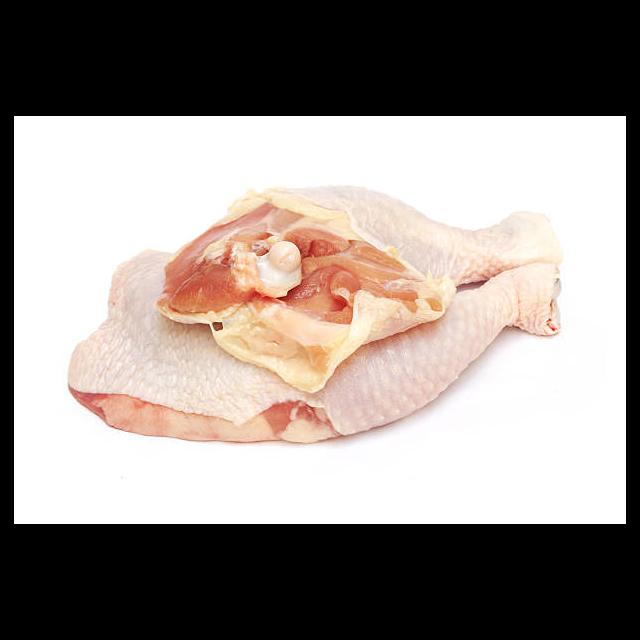chicken: (66, 248, 561, 445), (155, 183, 562, 394)
